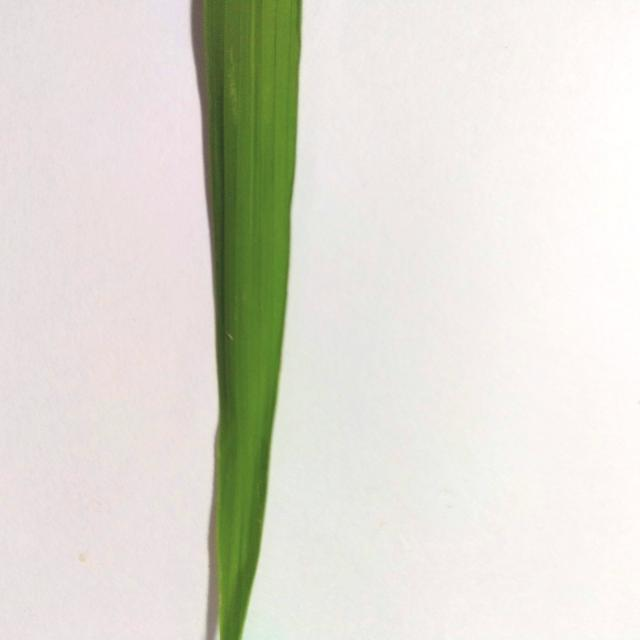Rice_Healthy: (192, 0, 301, 640)
